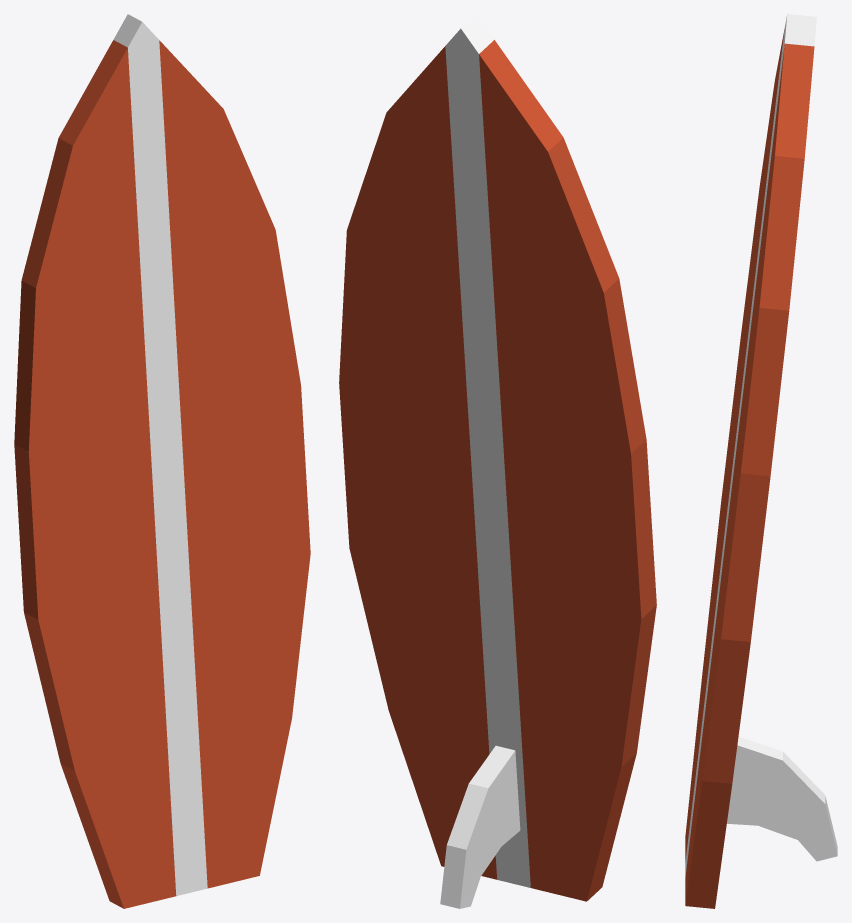
The model's file is Surfboard2.fbx.
3 renders of one model, left to right at view 1: azimuth 30°, elevation 25°; view 2: azimuth 150°, elevation 25°; view 3: azimuth 270°, elevation 25°, orthographic. The views are drawn at different scales.
Visible parts, largest first — view 1: Surfboard2; view 2: Surfboard2; view 3: Surfboard2.
Part boxes in pixels (left/top/right/bottom): Surfboard2: left=14, top=14, right=310, bottom=908; Surfboard2: left=339, top=14, right=656, bottom=908; Surfboard2: left=685, top=14, right=837, bottom=908.
Bounding box in the file's own units: 0.68 × 2 × 0.3207.
